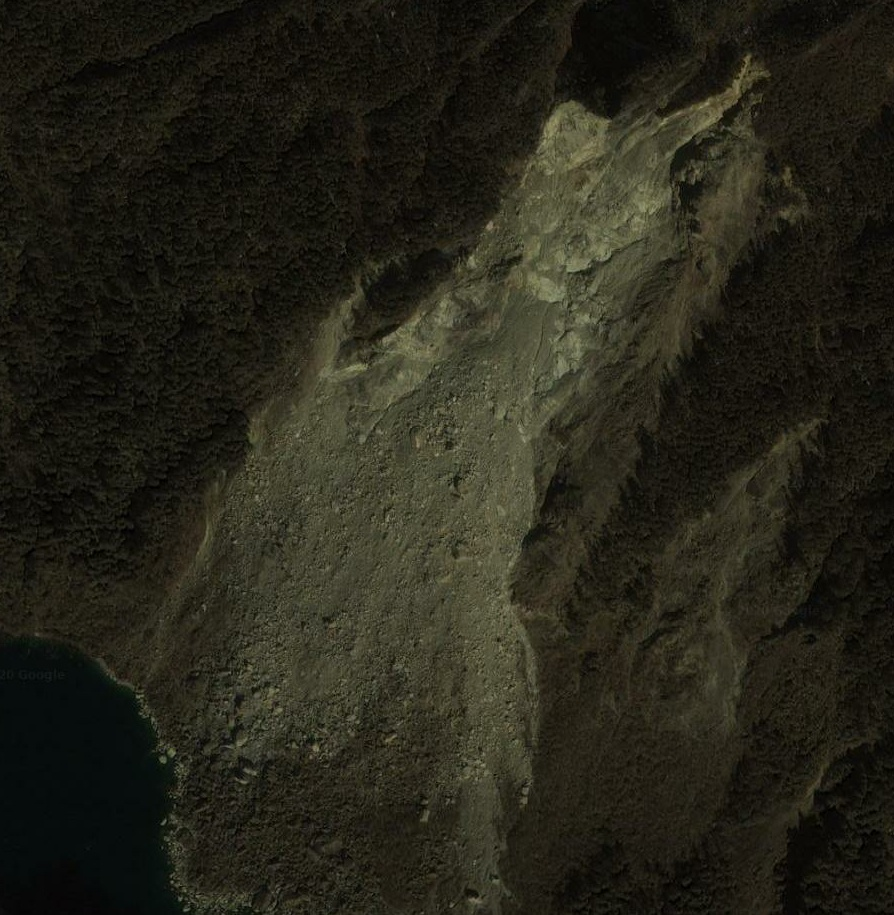slope: (165, 49, 780, 913)
